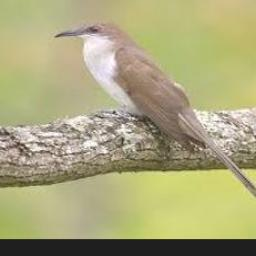Cuckoo: (54, 19, 256, 202)
